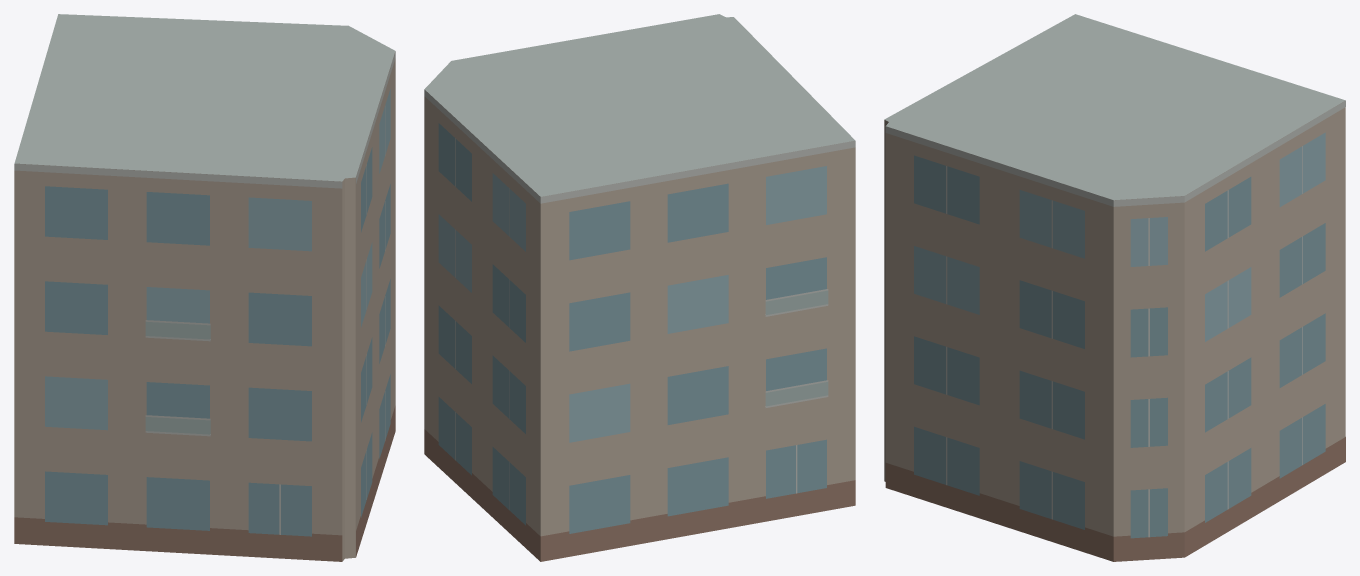
The model's file is survey-upis-32620309.glb.
3 views of the same model, side by side, from view 1: azimuth 30°, elevation 25°; view 2: azimuth 150°, elevation 25°; view 3: azimuth 270°, elevation 25° (orthographic). The views are drawn at different scales.
Visible parts, largest first — view 1: survey-upis-32620309.tmp; view 2: survey-upis-32620309.tmp; view 3: survey-upis-32620309.tmp.
Boxes of the visible parts, x1,y1,x2,y2 form: survey-upis-32620309.tmp: (14,14,395,561); survey-upis-32620309.tmp: (424,14,855,561); survey-upis-32620309.tmp: (884,14,1345,561).
Size of the model in its own units: 14.58 by 13.2 by 15.28.
